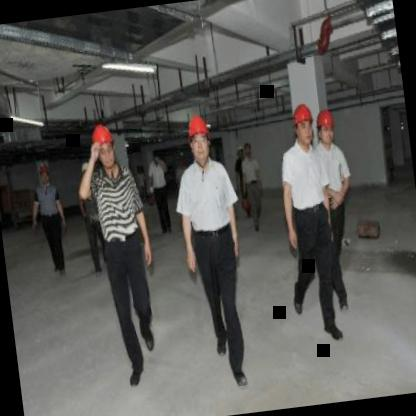helmet: (182, 110, 214, 164), (88, 119, 118, 170), (289, 98, 318, 148), (316, 105, 340, 148), (36, 162, 52, 186)
